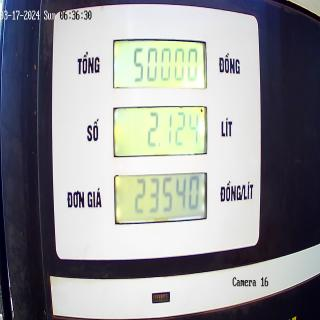screen: (112, 34, 209, 230)
